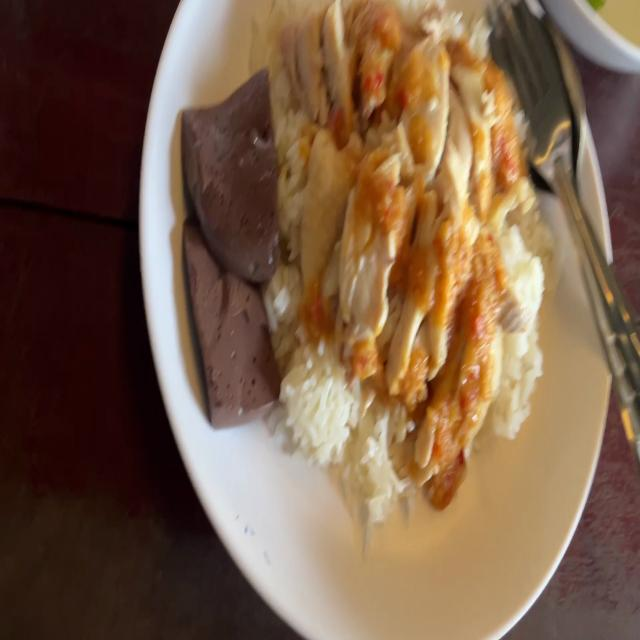boiled_chicken: (292, 15, 515, 409)
boiled_chicken_blood_jelly: (179, 56, 285, 276), (180, 223, 274, 427)
chicken_rice: (171, 0, 559, 501)
